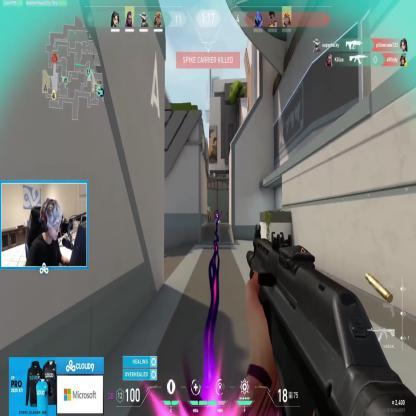enemy: (206, 206, 212, 223)
enemy_head: (208, 207, 210, 210)
